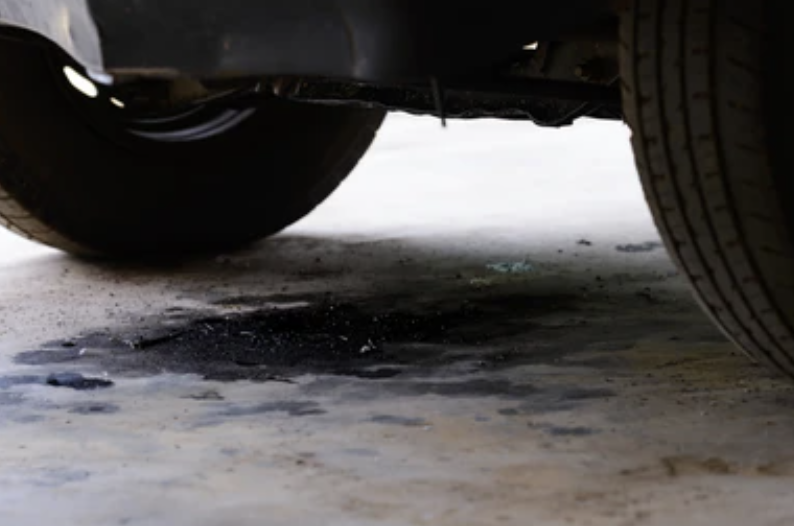oil: (2, 142, 342, 220)
